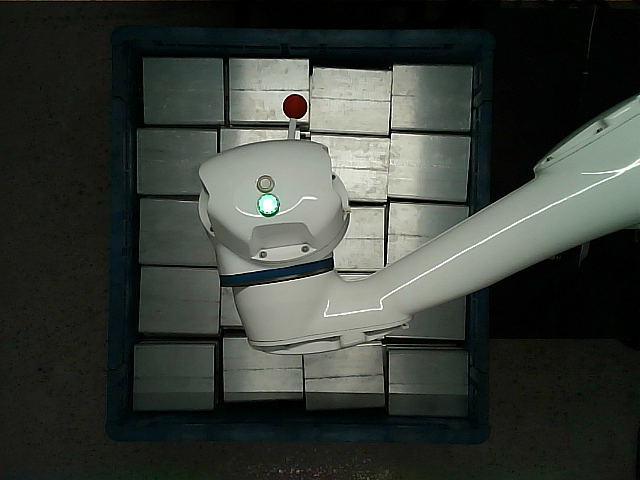green_light: (257, 193, 279, 216)
